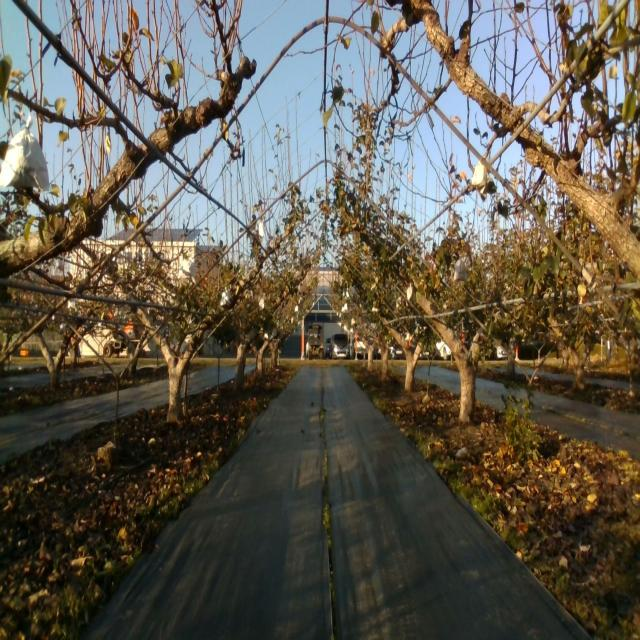pearbags: (0, 112, 48, 188), (471, 162, 487, 199), (178, 257, 196, 284), (452, 258, 468, 283), (220, 286, 231, 307)
